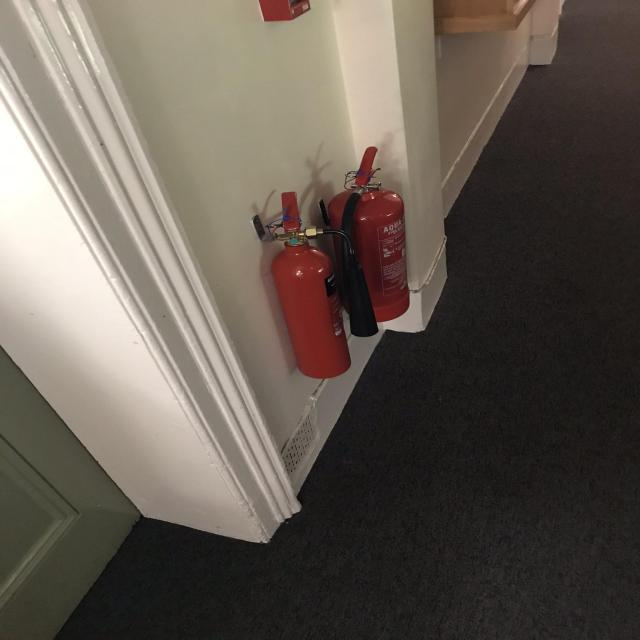fire_extinguisher: (258, 187, 381, 382), (314, 144, 412, 326)
